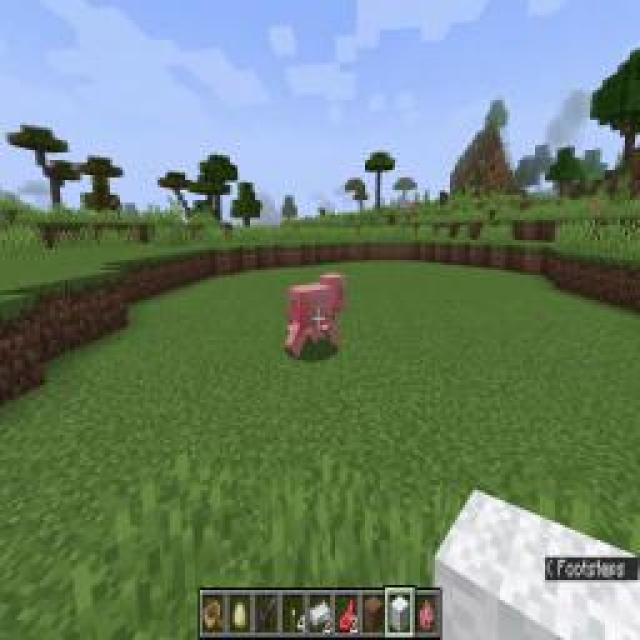Pig: (282, 269, 350, 361)
